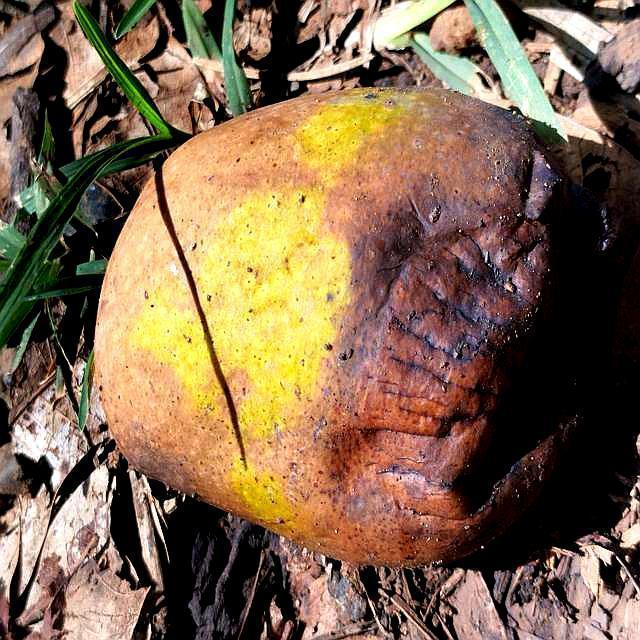Biodegradable: (91, 91, 615, 565)
